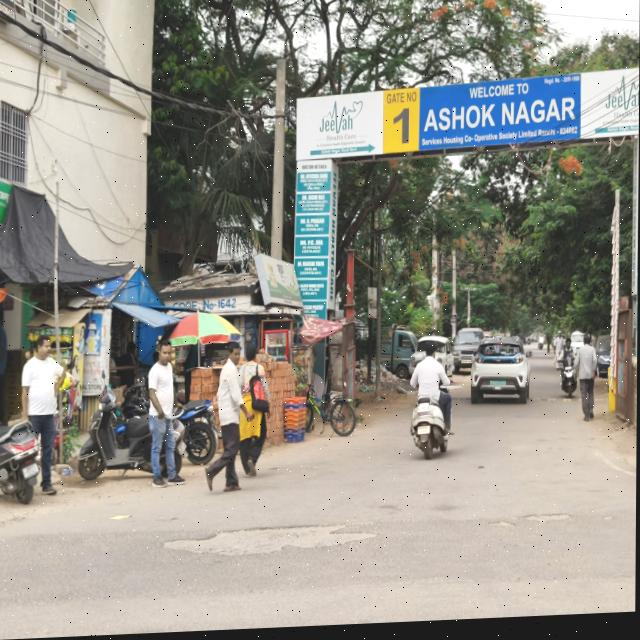bike: (79, 386, 187, 493), (407, 386, 461, 471), (0, 420, 43, 513), (559, 357, 578, 404)
car: (468, 337, 534, 417), (409, 337, 455, 388), (452, 329, 485, 375)
